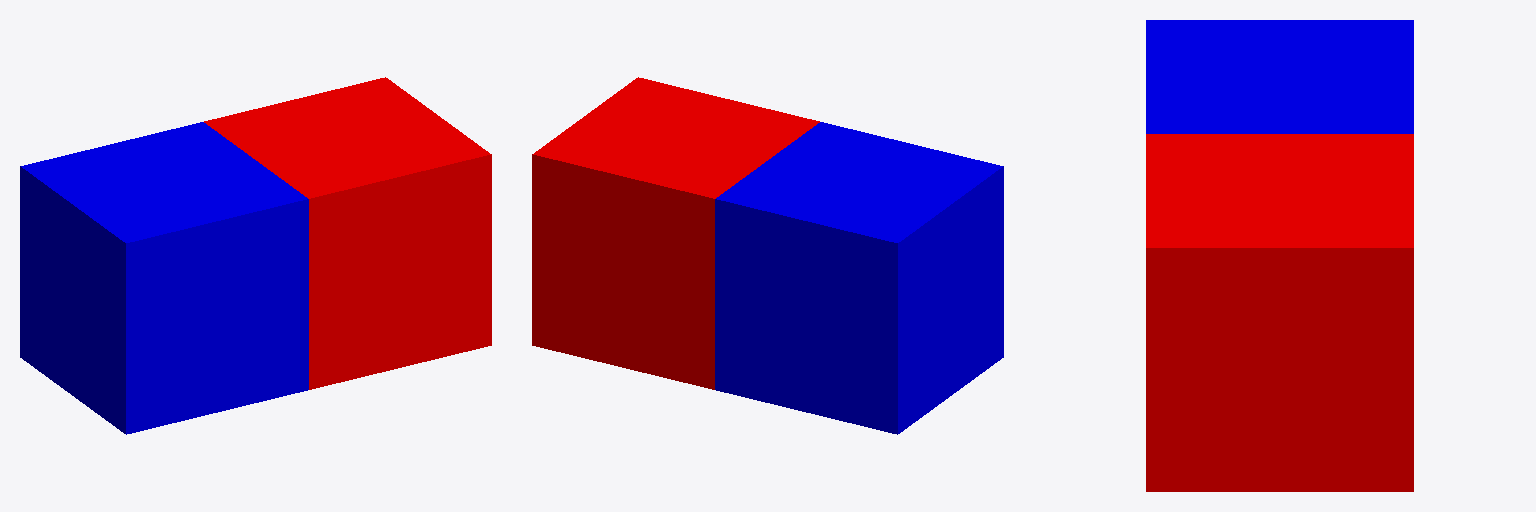
The robot description file, URDF, robot "foldable_robot":
<?xml version="1.0"?>
<robot name="foldable_robot">

  <material name="red">
    <color rgba="1 0 0 0.3"/>
  </material>

  <material name="blue">
    <color rgba="0 0 1 0.3"/>
  </material>

  <link name="cube1">
    <pose> 0 0 0 0 0 0</pose>

    <visual>
      <origin rpy = "0 0 0" xyz = "0 0 0"/>
      <geometry>
        <box size = "0.05 0.05 0.05"/>
      </geometry>
      <material name = "red"/>
    </visual>

    <collision>
      <origin rpy = "0 0 0" xyz = "0 0 0"/>
      <geometry>
        <box size = "0.05 0.05 0.05"/>
      </geometry>
    </collision>

    <inertial>
    	<mass value = "0.1" />
    	<origin rpy = "0 0 0" xyz = "0 0 0"/>
    	<inertia ixx = "0.0000416667" ixy = "0" ixz = "0" iyy = "0.0000416667" iyz = "0" izz = "0.0000416667" />
    </inertial>
    </link>

  <link name="cube2">
    <pose> 0 0 0 0 0 0</pose>

    <visual>
      <origin rpy = "0 0 0" xyz = "0.025 0 0.025"/>
      <geometry>
        <box size = "0.05 0.05 0.05"/>
      </geometry>
      <material name = "blue"/>
    </visual>

    <collision>
      <origin rpy = "0 0 0" xyz = "0.025 0 0.025"/>
      <geometry>
        <box size = "0.05 0.05 0.05"/>
      </geometry>
    </collision>

      <inertial>
    	<mass value = "0.1" />
    	<origin rpy = "0 0 0" xyz = "0 0 0"/>
    	<inertia ixx = "0.0000416667" ixy = "0" ixz = "0" iyy = "0.0000416667" iyz = "0" izz = "0.0000416667" />
    </inertial>
    </link>

  <joint name="joint1" type="revolute">
    <parent link="cube1"/>
    <child link="cube2"/>
    <origin xyz="-0.025 0 0.025" rpy="0 -3.141592 0" />
    <axis xyz="0 1 0" />
    <limit effort="0" lower="-1.5707" upper="1.5707" velocity="0.5"/>
  </joint>

</robot>

--- Facts derived from the render (not from the file) ---
Views: 3 orthographic renders of the robot side by side, from view 1: azimuth 30°, elevation 25°; view 2: azimuth 150°, elevation 25°; view 3: azimuth 270°, elevation 25°.
Robot: foldable_robot — 2 links, 1 joints (1 revolute); root link cube1; default pose: all joints at 0.
Links seen in each view (by area): view 1: cube2, cube1; view 2: cube2, cube1; view 3: cube1, cube2.
Boxes of the visible links, x1,y1,x2,y2 form: cube2: (20,122,308,434); cube1: (204,77,491,389); cube2: (715,122,1003,434); cube1: (532,77,819,389); cube1: (1146,134,1413,491); cube2: (1146,20,1413,133).
Size in the robot's own frame: 0.1 by 0.05 by 0.05 metres.
Geometry: primitives only (box / cylinder / sphere), no mesh files.